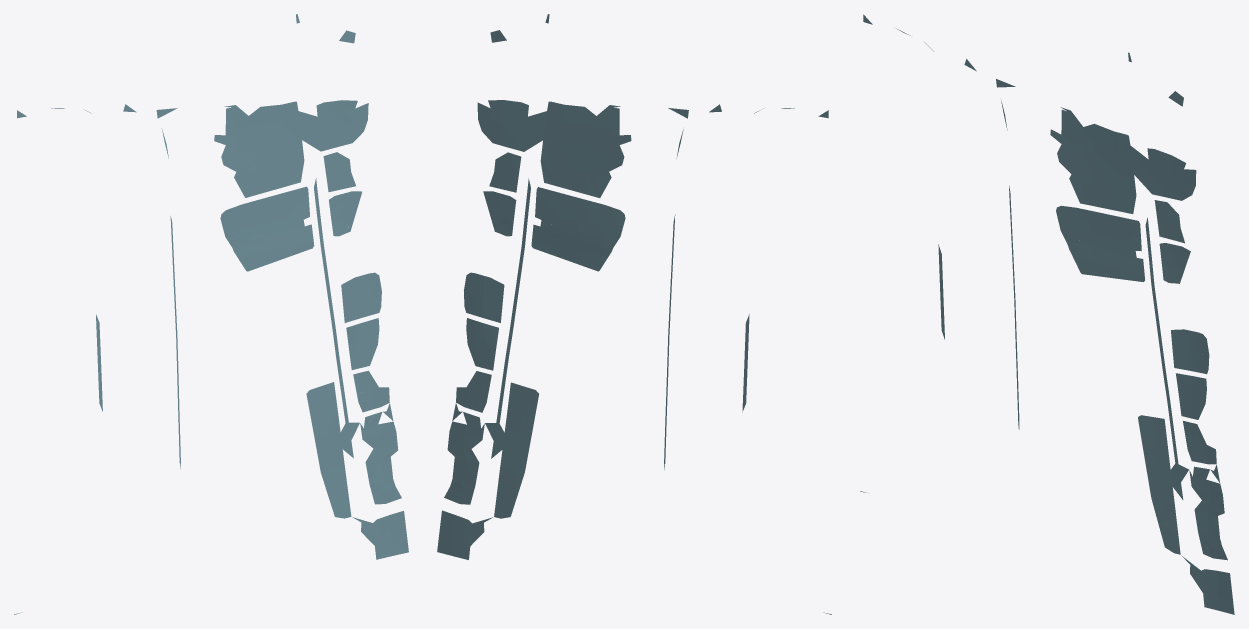
The model's file is context-water.glb.
3 renders of one model, left to right at view 1: azimuth 30°, elevation 25°; view 2: azimuth 150°, elevation 25°; view 3: azimuth 330°, elevation 25°, orthographic. The views are drawn at different scales.
Visible parts, largest first — view 1: water; view 2: water; view 3: water.
Part boxes in pixels (x1,y1,x2,y2): water: [14, 14, 408, 614]; water: [437, 14, 831, 614]; water: [860, 14, 1234, 614].
Size of the model in its own units: 600 by 821 by 1.79.
